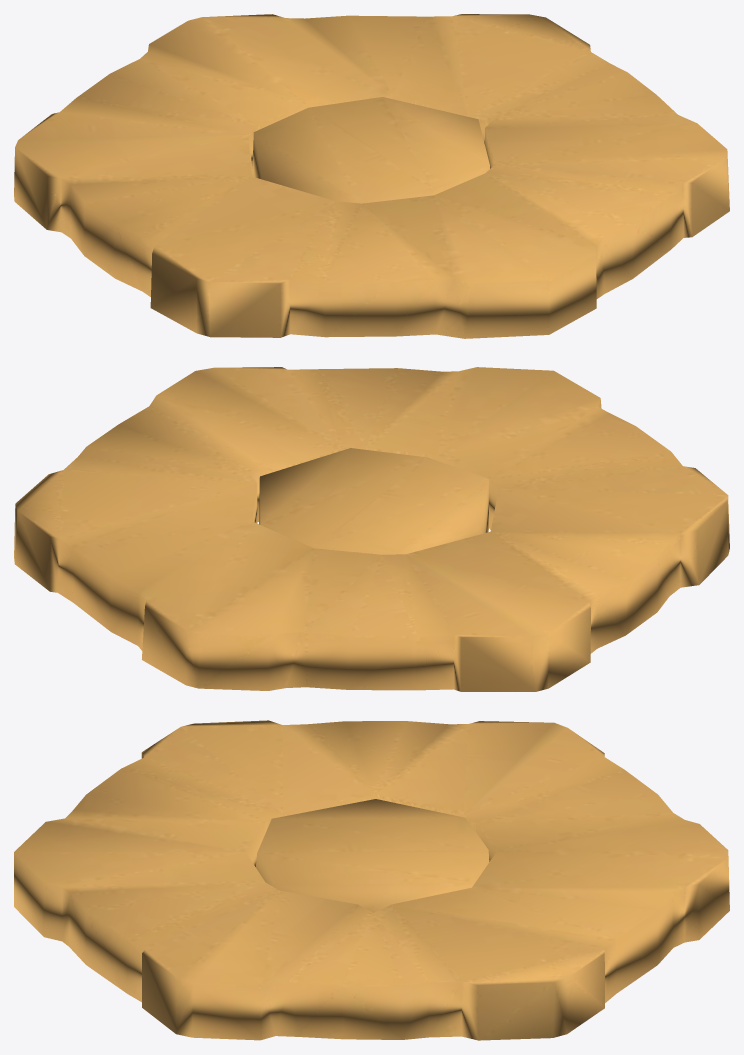
File: tile-desert.glb
The picture shows the model from 3 angles, top to bottom: view 1: azimuth 30°, elevation 25°; view 2: azimuth 150°, elevation 25°; view 3: azimuth 270°, elevation 25°; orthographic projection.
Size of the model in its own units: 0.8443 by 0.0839 by 0.9575.
Materials: 1 (1 with a texture image).
